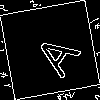A: (25, 25, 82, 79)
